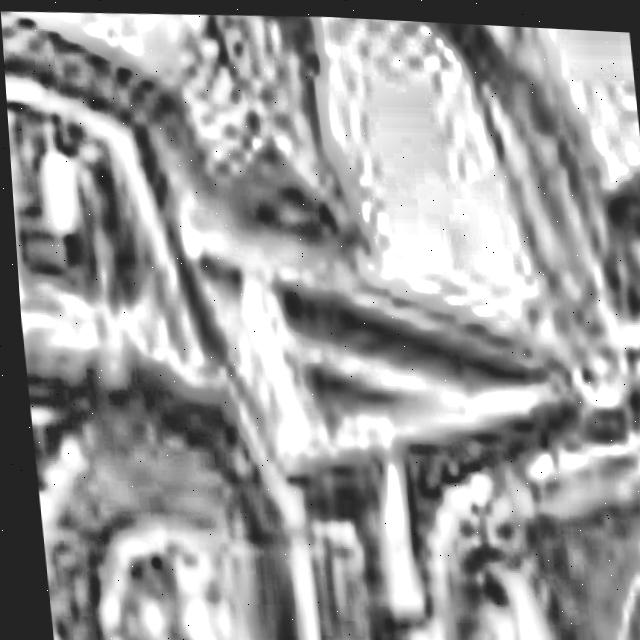dump_truck: (0, 0, 604, 640)
